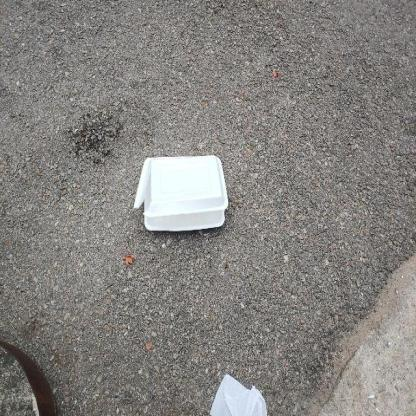Glass Cup: (134, 155, 228, 231), (135, 156, 229, 231)
